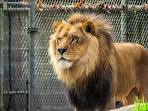lion: (50, 15, 146, 111)
